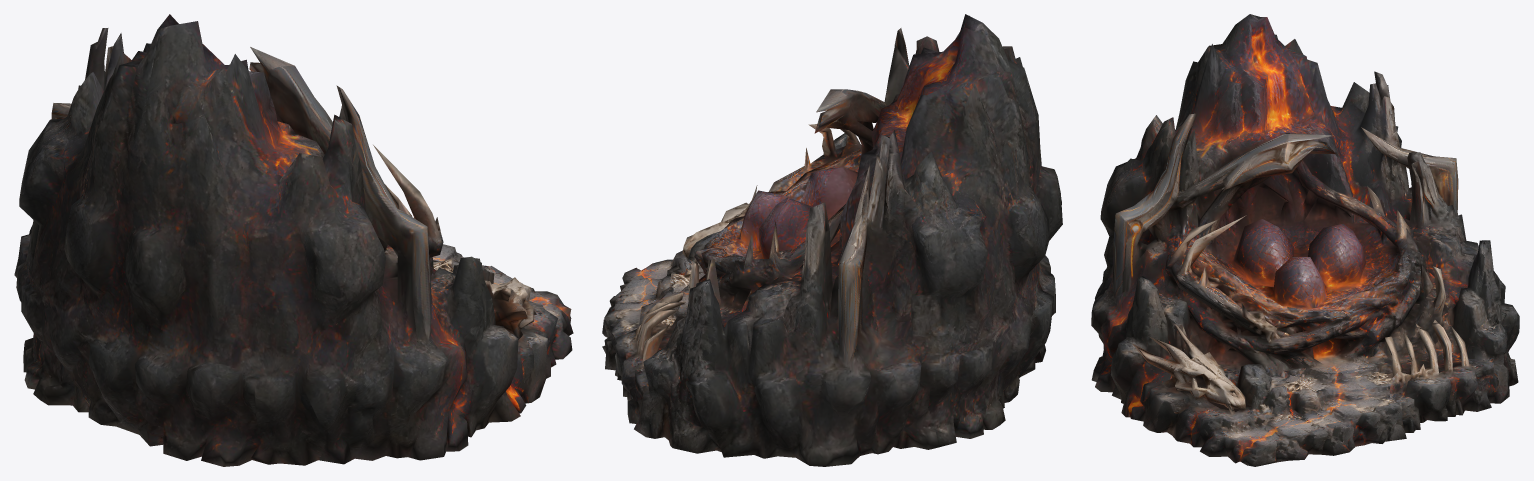
File: env_ro_nest.glb
The picture shows the model from 3 angles, left to right: view 1: azimuth 30°, elevation 25°; view 2: azimuth 150°, elevation 25°; view 3: azimuth 270°, elevation 25°; orthographic projection. The views are drawn at different scales.
Visible parts, largest first — view 1: tripo_node_f296320b-e2b9-44fe-9a41-41c95a9ad4ca; view 2: tripo_node_f296320b-e2b9-44fe-9a41-41c95a9ad4ca; view 3: tripo_node_f296320b-e2b9-44fe-9a41-41c95a9ad4ca.
Boxes of the visible parts, x1,y1,x2,y2 form: tripo_node_f296320b-e2b9-44fe-9a41-41c95a9ad4ca: [14, 14, 573, 466]; tripo_node_f296320b-e2b9-44fe-9a41-41c95a9ad4ca: [602, 14, 1062, 466]; tripo_node_f296320b-e2b9-44fe-9a41-41c95a9ad4ca: [1091, 14, 1519, 466].
Bounding box in the file's own units: 0.9999 × 0.7863 × 1.
Materials: 1 (1 with a texture image).
